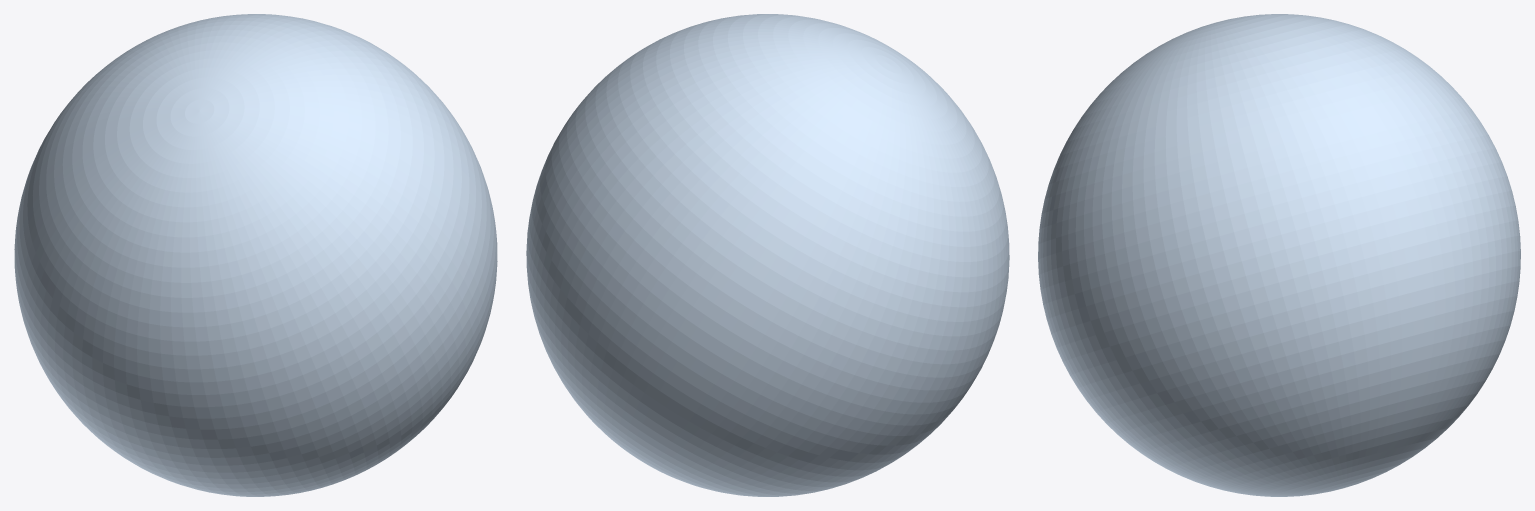
Rendered from atom2.glb.
The picture shows the model from 3 angles, left to right: view 1: azimuth 30°, elevation 25°; view 2: azimuth 150°, elevation 25°; view 3: azimuth 270°, elevation 25°; orthographic projection.
Parts seen in each view (by area): view 1: Circle008; view 2: Circle008; view 3: Circle008.
Boxes of the visible parts, x1,y1,x2,y2 form: Circle008: (14,14,497,496); Circle008: (526,14,1009,496); Circle008: (1038,14,1520,496).
Bounding box in the file's own units: 8.83 × 8.83 × 8.82.
